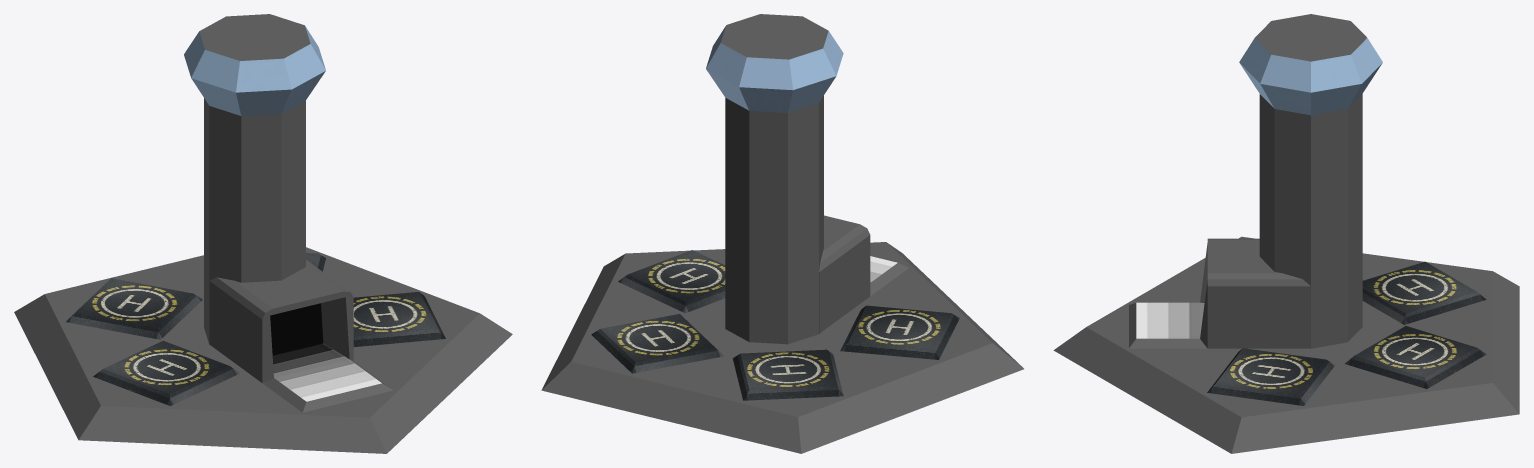
The model's file is LandingPadReady2.fbx.
3 renders of one model, left to right at view 1: azimuth 30°, elevation 25°; view 2: azimuth 150°, elevation 25°; view 3: azimuth 270°, elevation 25°, orthographic. The views are drawn at different scales.
Visible parts, largest first — view 1: Base; view 2: Base; view 3: Base.
Boxes of the visible parts, x1,y1,x2,y2 form: Base: (14, 14, 512, 453); Base: (541, 14, 1023, 453); Base: (1053, 14, 1519, 453).
Bounding box in the file's own units: 905 × 669 × 951.
